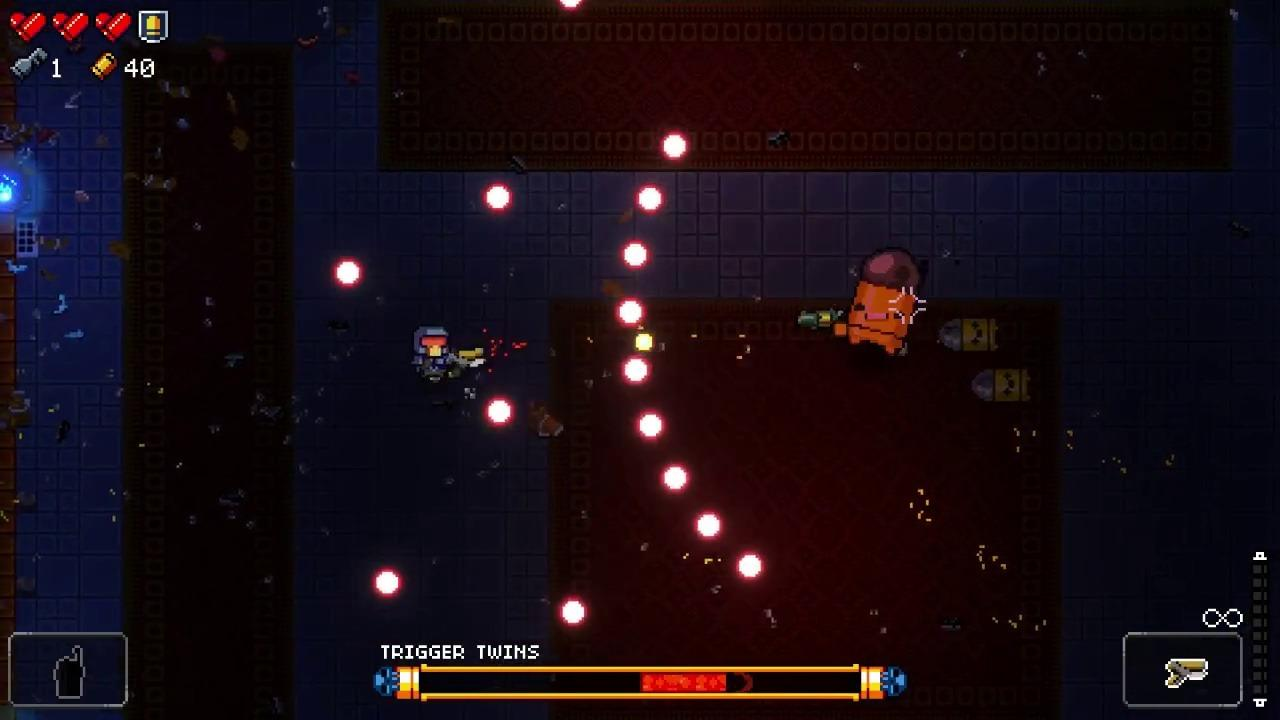boss_smiley: (847, 250, 922, 356)
bullet: (620, 237, 650, 271), (616, 295, 647, 326), (485, 398, 515, 429), (330, 259, 364, 286), (373, 568, 401, 600), (637, 182, 665, 213), (660, 130, 687, 161), (738, 552, 764, 584), (692, 514, 722, 540), (662, 465, 688, 495), (623, 357, 649, 386), (561, 600, 587, 628), (638, 415, 662, 444), (485, 185, 508, 212)
dead_bullet_kin: (938, 318, 998, 355), (971, 370, 1031, 403)
player: (414, 326, 451, 383)
